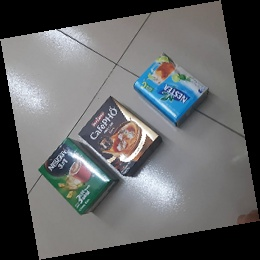CF pho: (78, 95, 163, 176)
Nes Rang: (36, 137, 120, 218)
Nestea: (132, 52, 210, 127)
